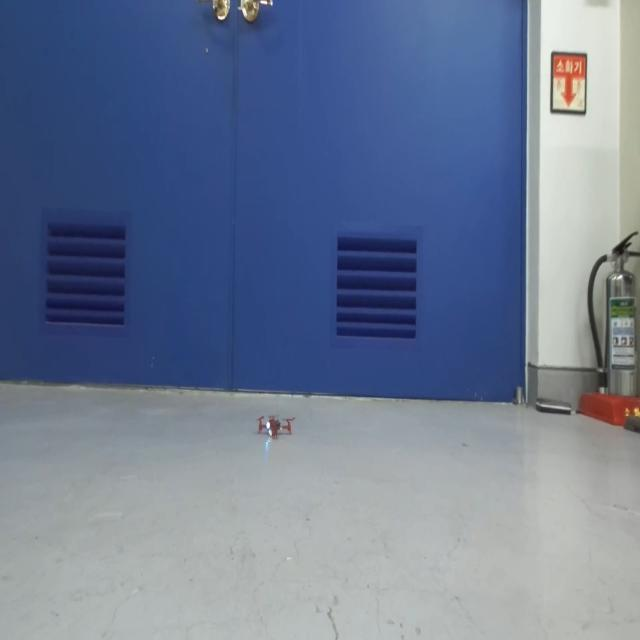crazyflie: (255, 411, 293, 442)
